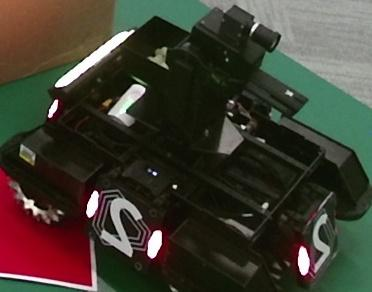armor_2: (87, 190, 162, 259)
light: (55, 28, 135, 87)
